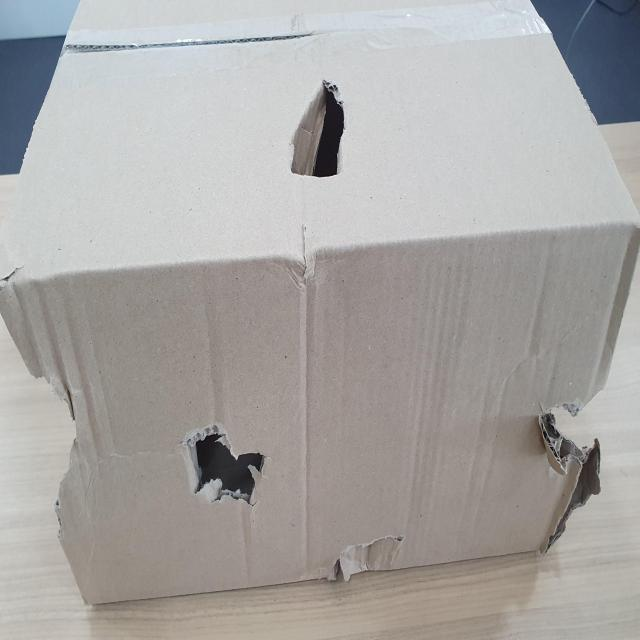damaged: (182, 422, 269, 518), (289, 76, 349, 188), (539, 384, 602, 474), (328, 529, 404, 579)
